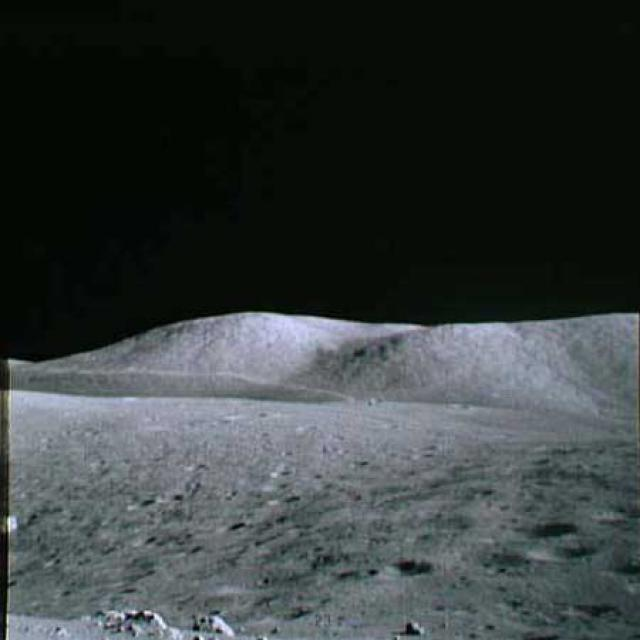crater: (520, 537, 602, 567), (512, 512, 582, 537), (370, 556, 431, 583)
rock: (94, 598, 172, 638), (190, 604, 242, 638)
